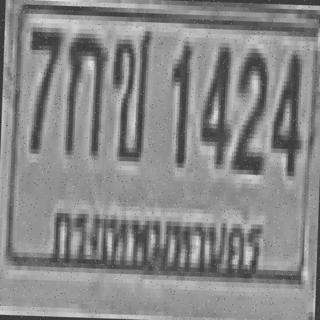A01: (63, 28, 104, 156)
A10: (108, 25, 150, 157)
N01: (166, 36, 190, 163)
N02: (231, 43, 268, 170)
N04: (198, 38, 230, 164), (268, 49, 300, 172)
N07: (26, 23, 61, 150)
P04: (42, 192, 268, 287)
